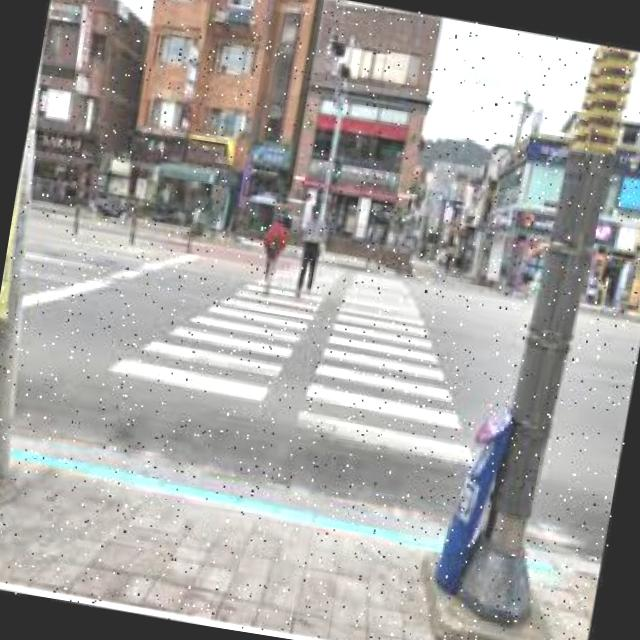Person: (292, 205, 331, 302), (254, 211, 293, 299)
